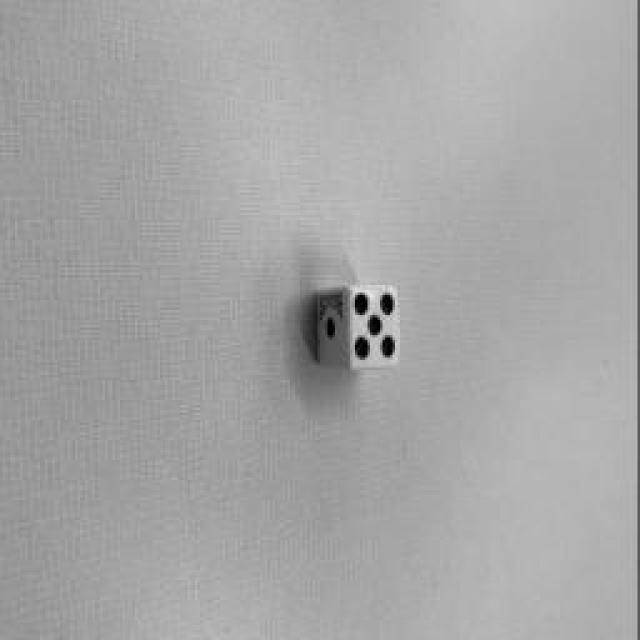dice_5: (351, 286, 399, 369)
